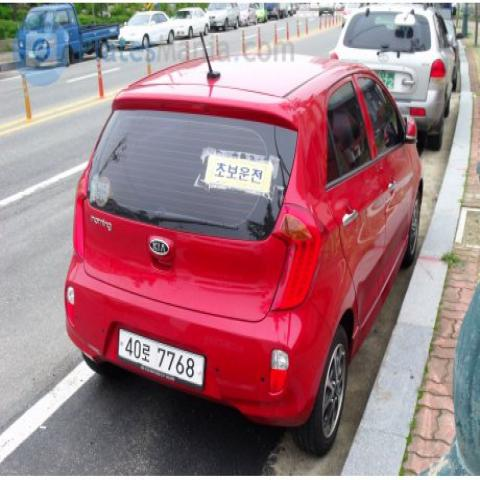LP: (110, 320, 211, 394)
